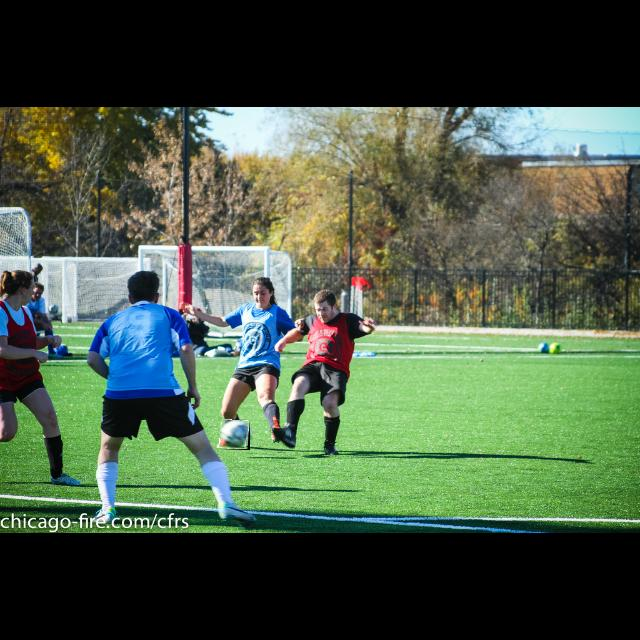Football: (220, 420, 250, 450)
